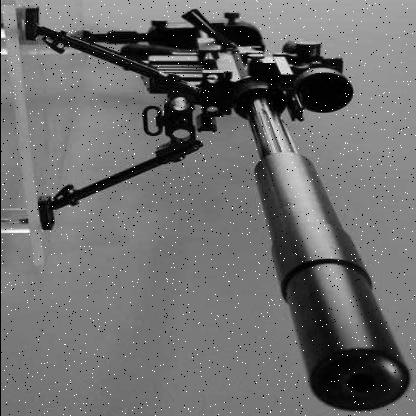rifle: (73, 12, 416, 411)
